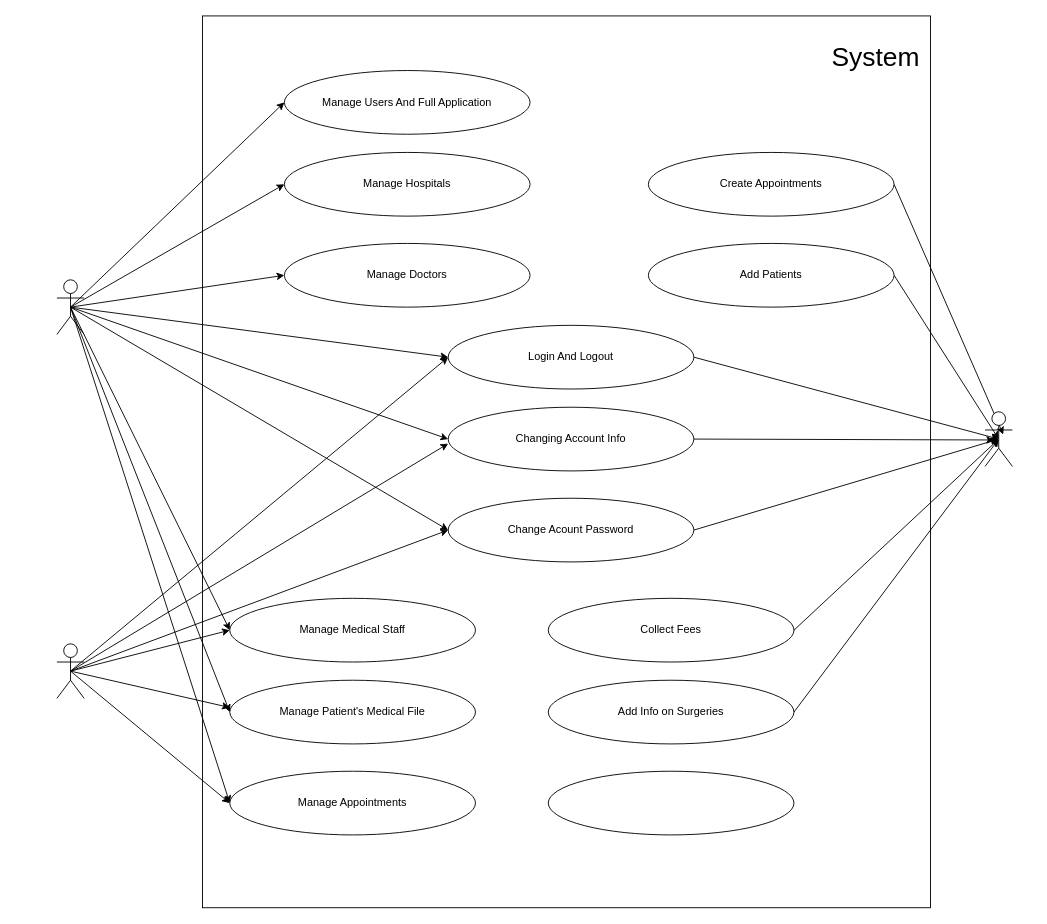
Some shapes in this 1047 by 924 pixel diagram are drawn without their labels. The centre of each missing label's shape, as x and y in pixels:
"Add Tests" goes at point (670, 802).
"Hospital Staff" goes at point (998, 438).
"Super Admin" goes at point (70, 306).
"System User" goes at point (70, 670).
